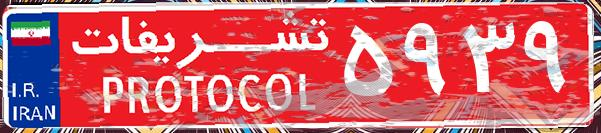3: (460, 20, 520, 115)
5: (340, 20, 400, 115)
9: (400, 20, 460, 115), (520, 20, 580, 115)
تشریفات: (60, 8, 340, 125)
